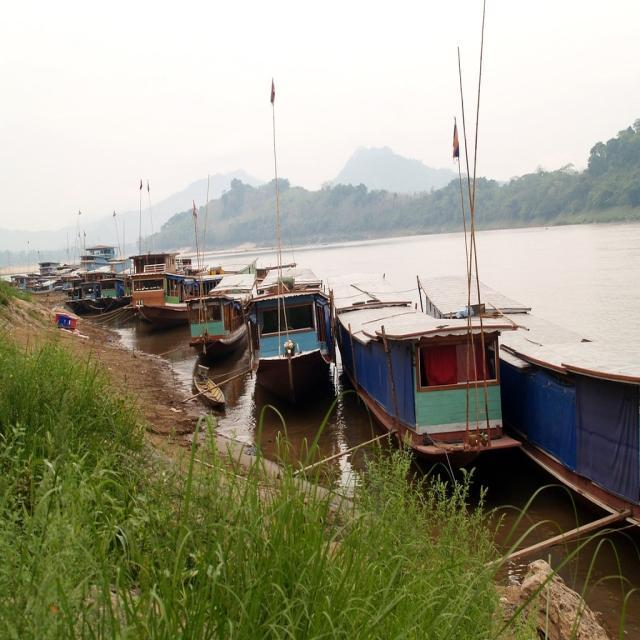boat: (324, 284, 518, 456), (250, 269, 330, 394), (184, 275, 260, 355), (187, 362, 234, 419)
